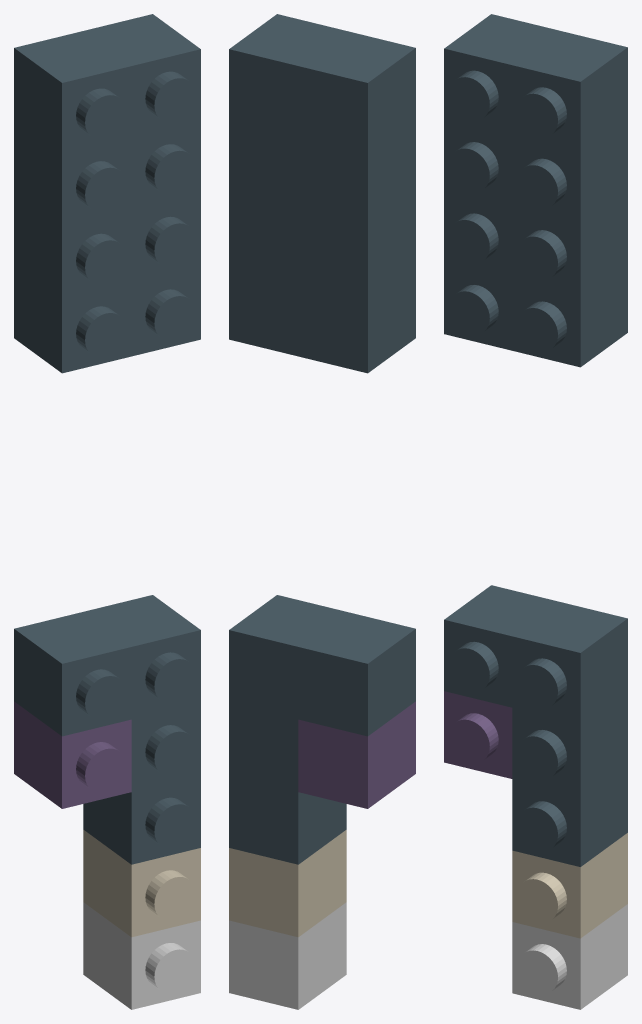
The model's file is current.glb.
The picture shows the model from 3 angles, left to right: view 1: azimuth 30°, elevation 25°; view 2: azimuth 150°, elevation 25°; view 3: azimuth 330°, elevation 25°; orthographic projection.
Parts seen in each view (by area): view 1: world; view 2: world; view 3: world.
Boxes of the visible parts, left/top/right/bottom form: world: left=14, top=14, right=200, bottom=1009; world: left=229, top=14, right=415, bottom=1009; world: left=444, top=14, right=627, bottom=1009.
Bounding box in the file's own units: 16 × 104 × 11.4.
